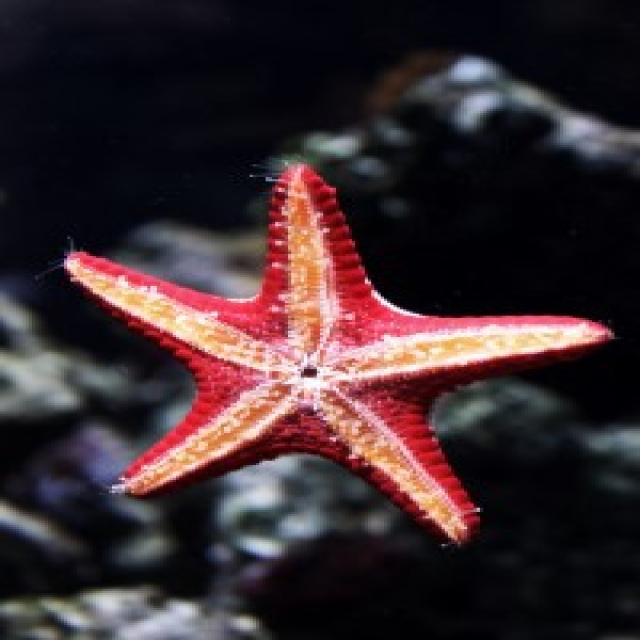Starfish: (49, 150, 618, 554)
